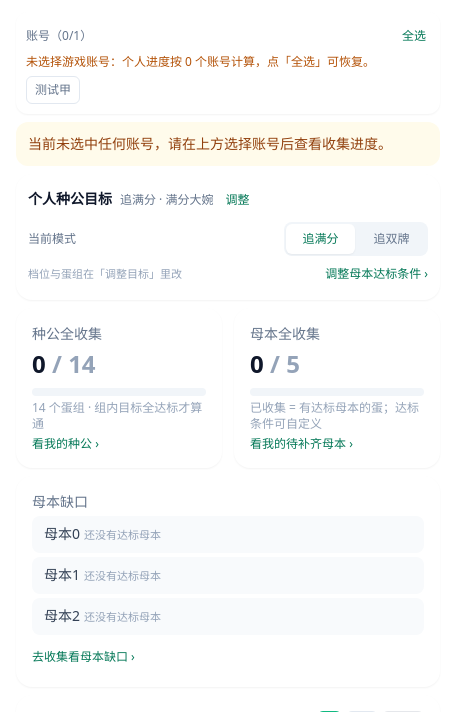
Test: Dashboard（看板） › 单个账号被筛掉时仍保留恢复筛选入口
The width and height of the screenshot is (457, 712).
Expected: the element with test id "account-filter" is shown, [16,12,440,114]
Click the button with test id "account-filter-toggle-all" at (414, 36), box [398,22,430,50]
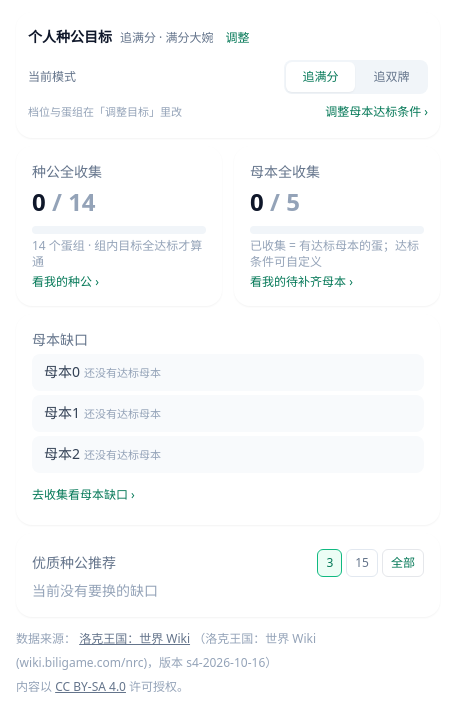
Expected: the text with test id "dashboard-empty-accounts" is gone
